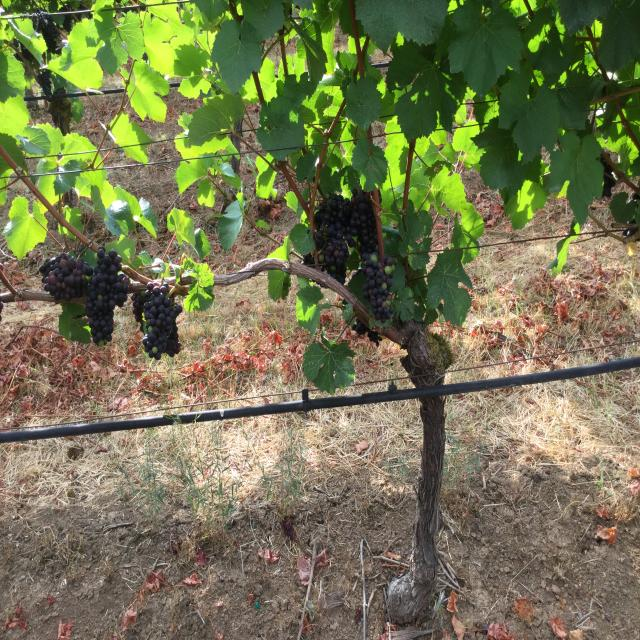grapes: (314, 188, 378, 283), (85, 247, 129, 345), (134, 283, 182, 360), (39, 253, 92, 302), (361, 253, 394, 323)
